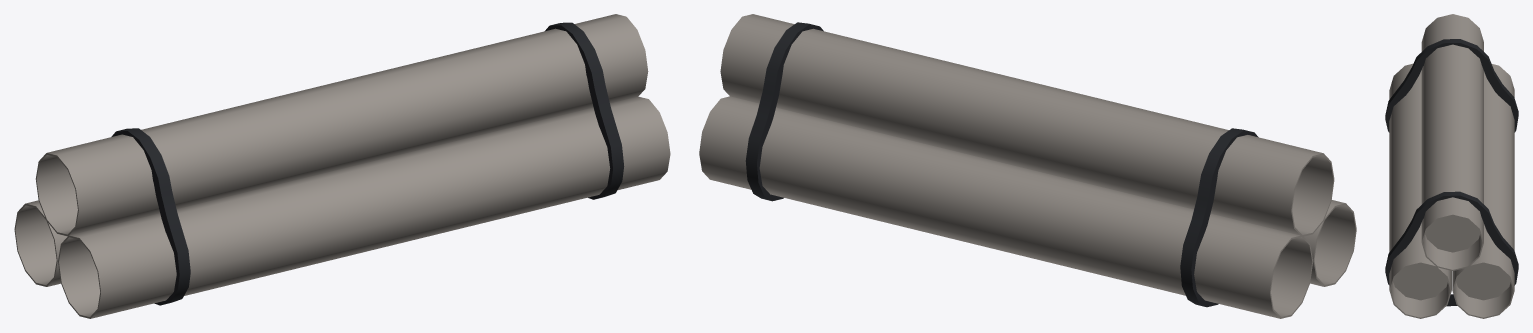
The model's file is Pipes_1.fbx.
3 renders of one model, left to right at view 1: azimuth 30°, elevation 25°; view 2: azimuth 150°, elevation 25°; view 3: azimuth 270°, elevation 25°, orthographic. The views are drawn at different scales.
Parts seen in each view (by area): view 1: Pipes_1; view 2: Pipes_1; view 3: Pipes_1.
Part boxes in pixels (x1,y1,x2,y2): Pipes_1: (14,14,670,318); Pipes_1: (699,14,1356,318); Pipes_1: (1385,14,1518,318).
Bounding box in the file's own units: 316 × 82.27 × 88.64.
